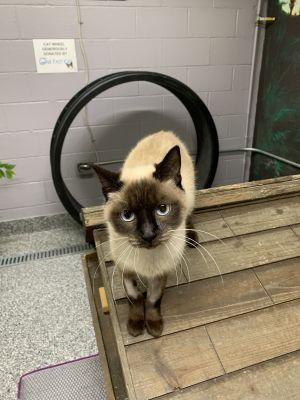siamese: (87, 137, 204, 259)
